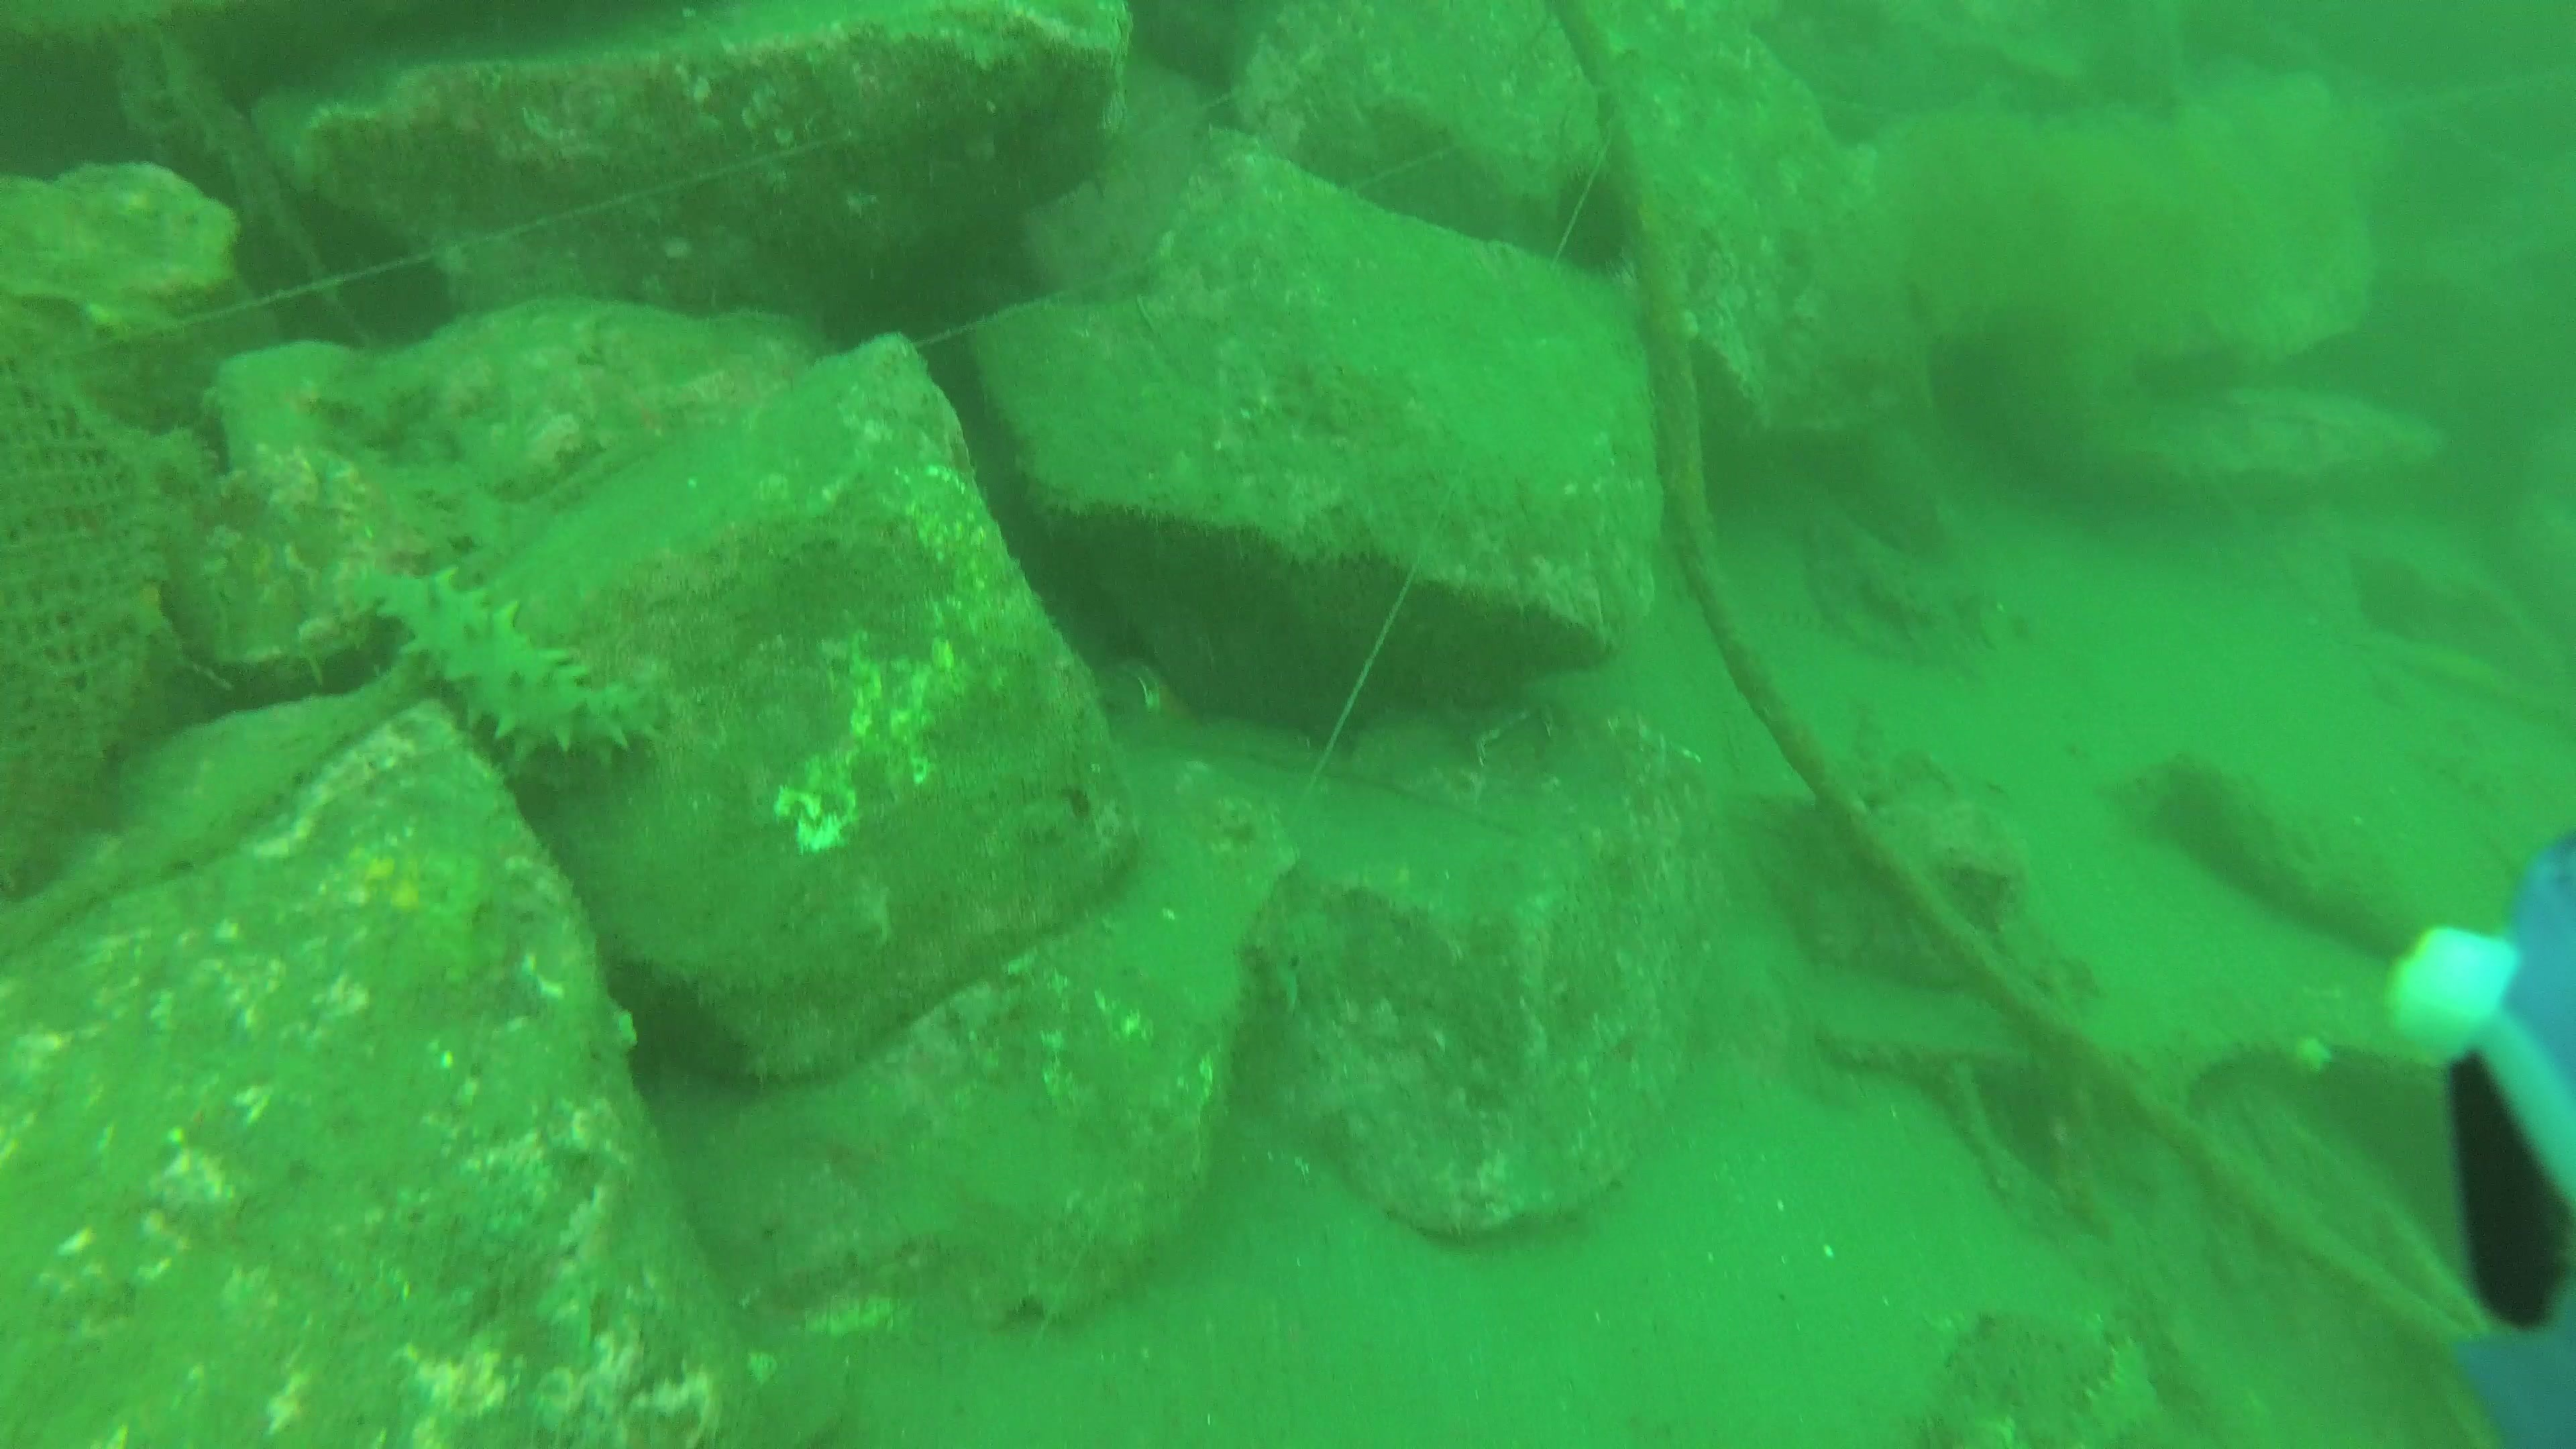holothurian: (352, 556, 671, 777), (2045, 1330, 2166, 1449)
